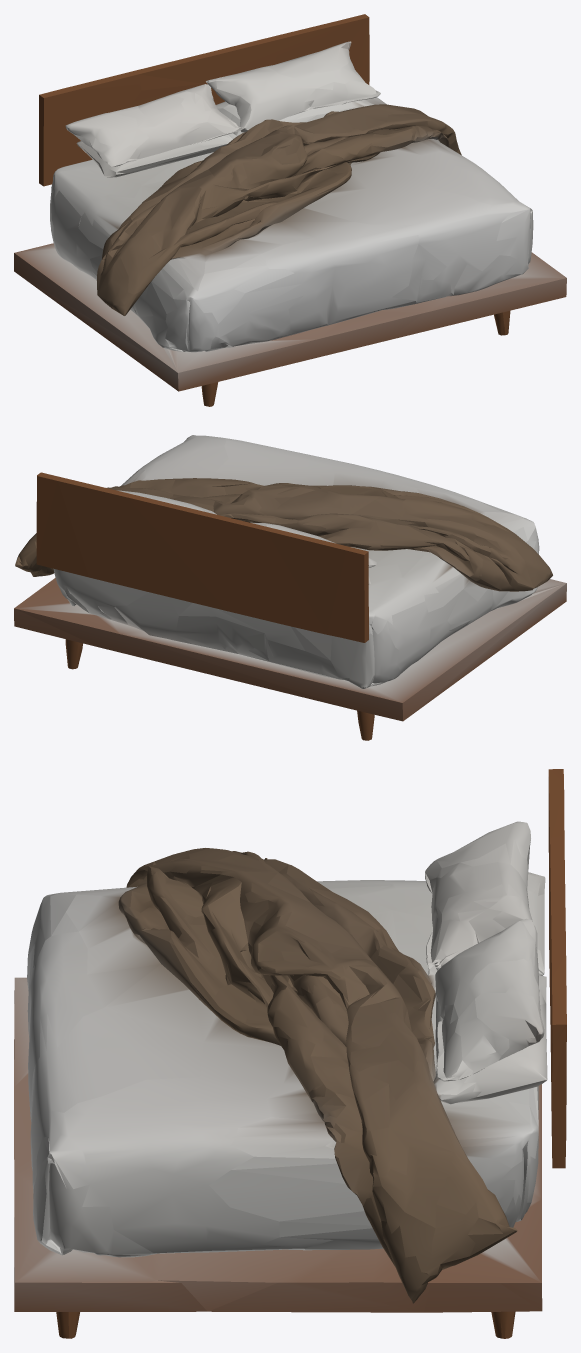
The model's file is bed.glb.
The picture shows the model from 3 angles, top to bottom: view 1: azimuth 30°, elevation 25°; view 2: azimuth 150°, elevation 25°; view 3: azimuth 270°, elevation 25°; orthographic projection. The views are drawn at different scales.
Size of the model in its own units: 1.9 by 0.8403 by 1.3.
